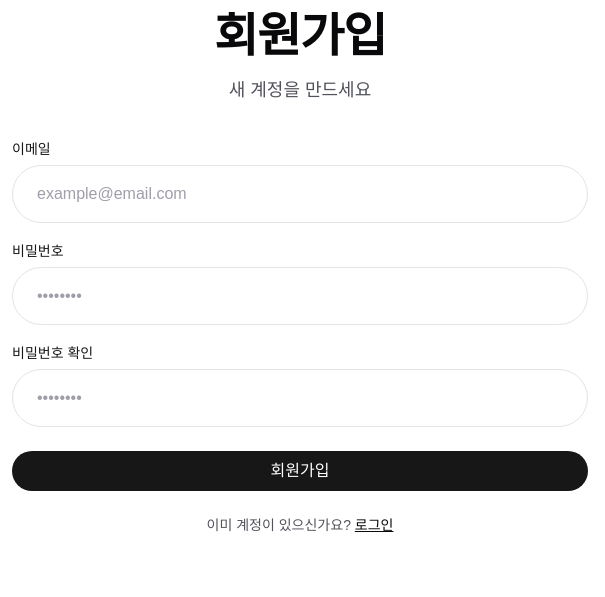
Test: SignupForm › Validation - Password › should show error for empty password
In the field labelled "이메일": {"x": 300, "y": 194} [12,165,588,223], type "test@example.com"
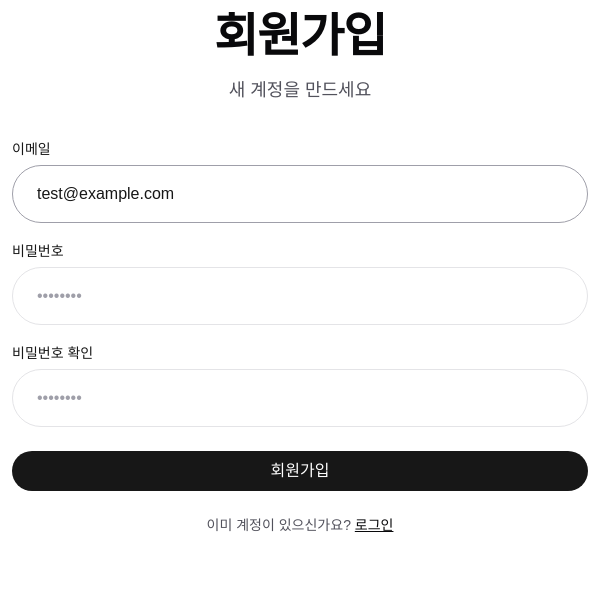
Click the button "회원가입": {"x": 300, "y": 471} [12,451,588,491]
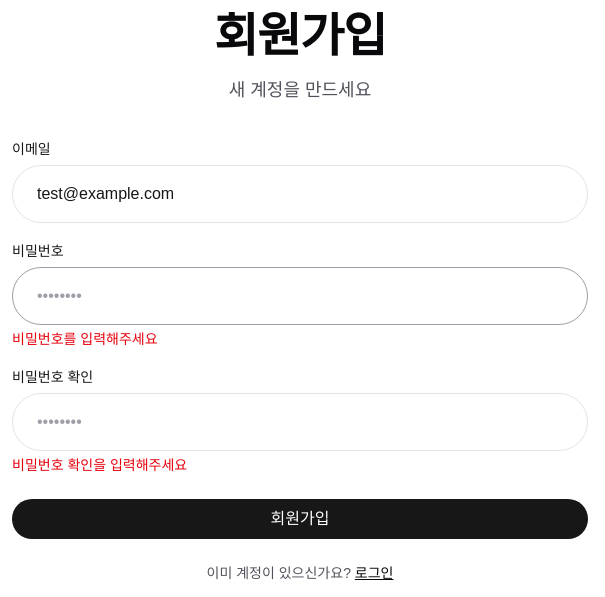
Check: the text "비밀번호를 입력해주세요" is shown, box [12,331,158,347]
